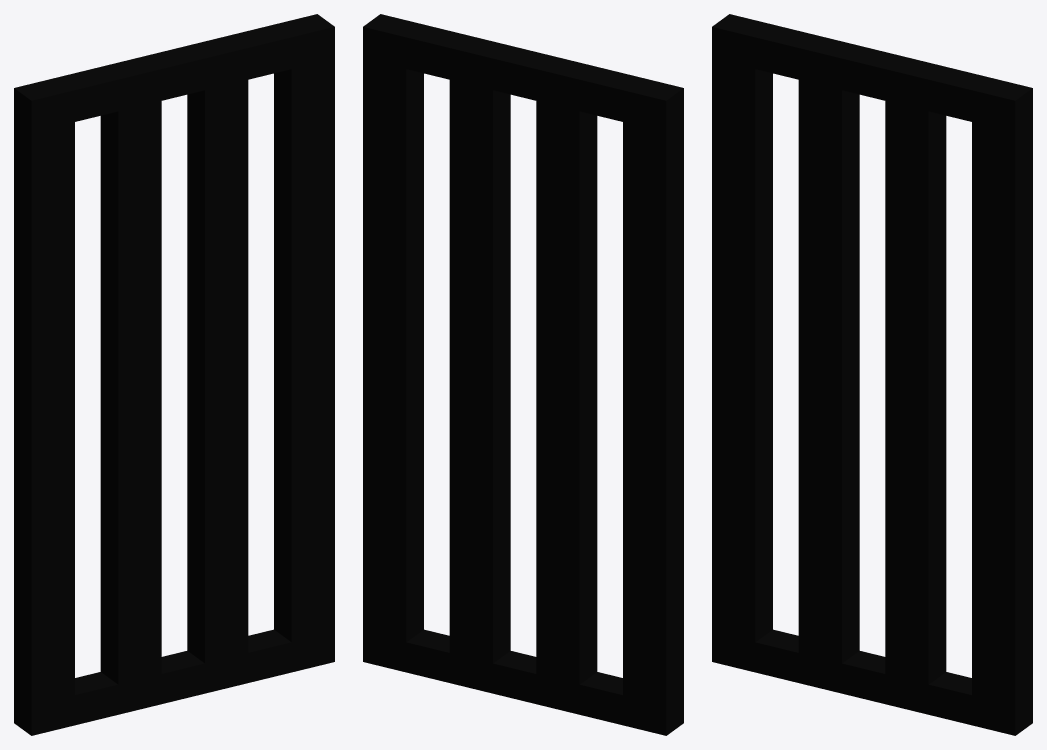
The model's file is FracturedCage_Model_2.fbx.
The picture shows the model from 3 angles, left to right: view 1: azimuth 30°, elevation 25°; view 2: azimuth 150°, elevation 25°; view 3: azimuth 330°, elevation 25°; orthographic projection.
Parts seen in each view (by area): view 1: Fractrued Cage; view 2: Fractrued Cage; view 3: Fractrued Cage.
Part boxes in pixels (x1=…): Fractrued Cage: x1=14, y1=14, x2=334, y2=735; Fractrued Cage: x1=363, y1=14, x2=683, y2=735; Fractrued Cage: x1=712, y1=14, x2=1032, y2=735.
Bounding box in the file's own units: 200 × 400 × 20.
